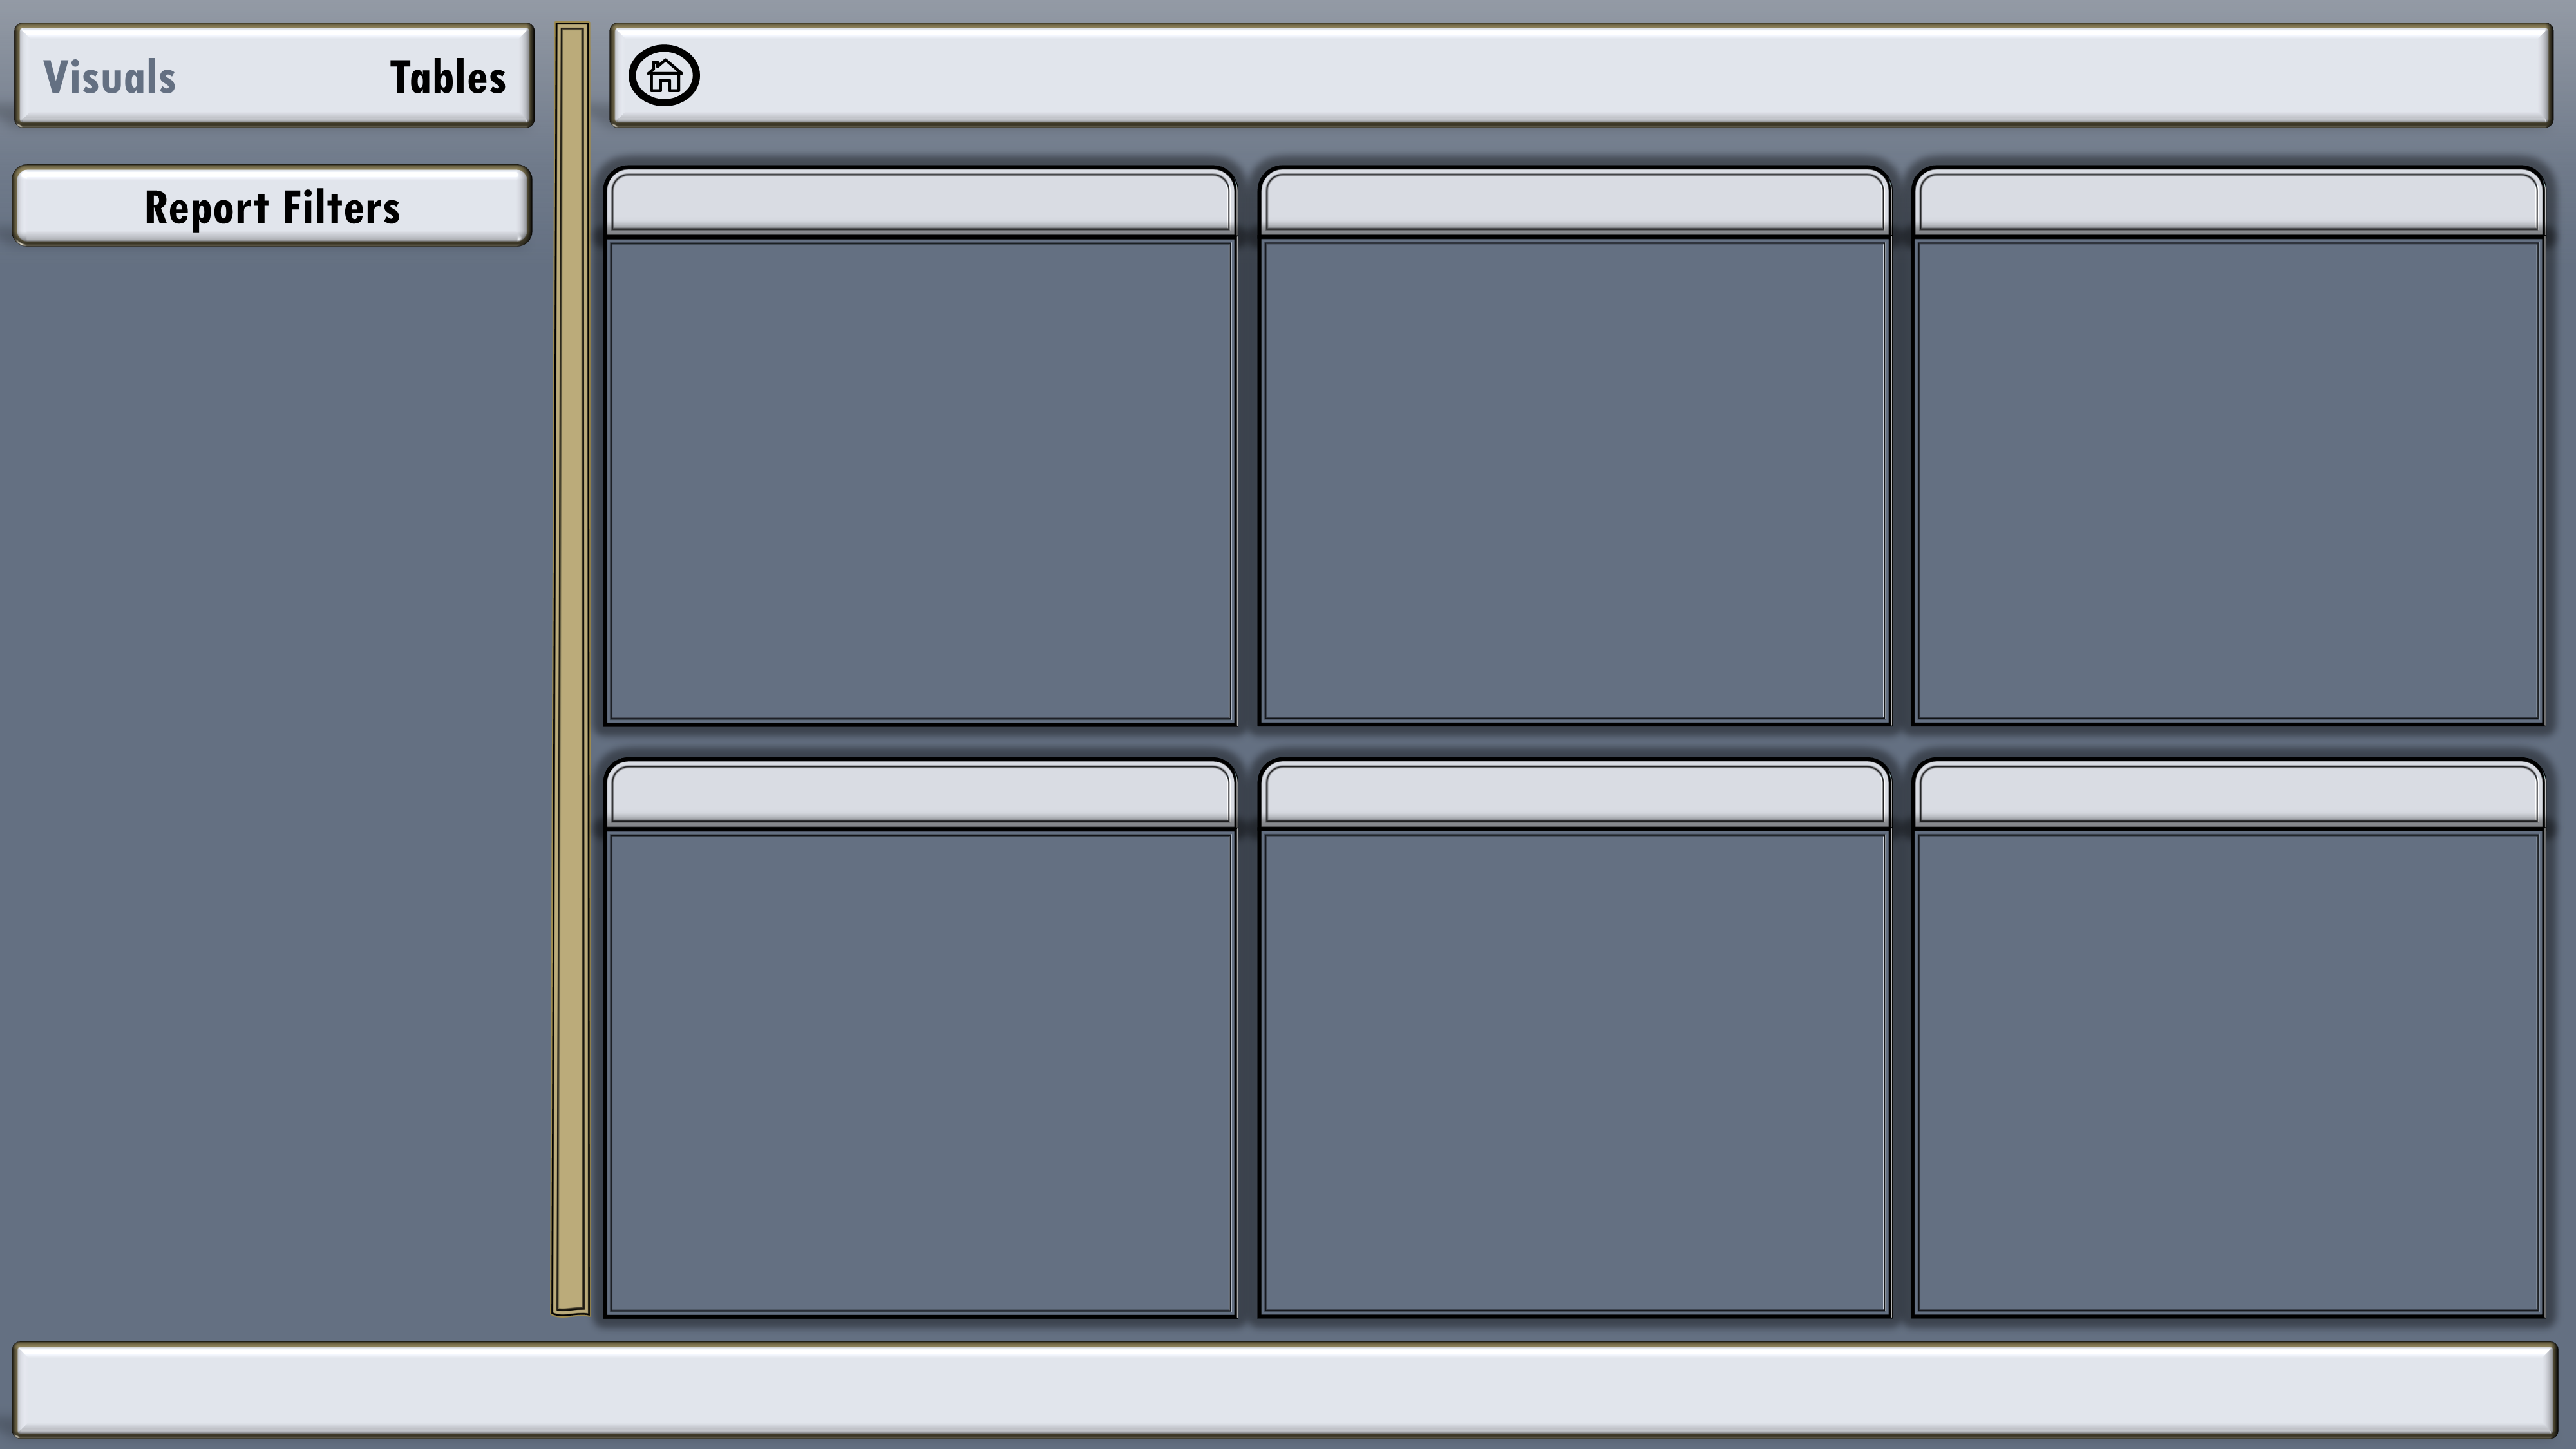

The dashboard page shown, as its layout file describes it:
{"tool":"powerbi","page":{"name":"Page 1","canvas":[1280,720],"ordinal":0},"visuals":[{"type":"lineChart","fields":{"Y":["Facture.CA","Budget Vente.CA - Budget Vente"],"Category":["Temps.Année - Mois.Mois"]},"box":[9.8,0,1270.2,312.1],"z":0},{"type":"donutChart","fields":{"Y":["Facture.CA"],"Category":["Site.Pays - Site.Pays","Site.Pays - Site.Site"]},"box":[902,522,378,197],"z":6},{"type":"gauge","fields":{"Y":["Budget Vente.% CA vs Budget Vente"]},"box":[9.8,321.8,441.3,180.4],"z":1000},{"type":"gauge","fields":{"Y":["Budget Vente.Ecart Marge vs Budget Vente"]},"box":[9.8,512,441.3,207.2],"z":2000},{"type":"map","fields":{"Size":["Facture.CA"],"Category":["Client.Localisation Client.Ville"]},"box":[451,321.8,451,397.4],"z":3000},{"type":"donutChart","fields":{"Y":["Facture.CA"],"Category":["Produit.Famille - SousFamille - Produit.Famille","Produit.Famille - SousFamille - Produit.Sous Famille","Produit.Famille - SousFamille - Produit.Produit"]},"box":[902.1,321.8,377.9,199.9],"z":4000}]}

Visuals, with their boxes on the page's 1280x720 design canvas (x1, y1, x2, y2). These are canvas units, not pixel positions in the 2576x1449 screenshot, which may show the page scaled, cropped or inside an application window:
lineChart - Facture.CA x Budget Vente.CA - Budget Vente: crop(10, 0, 1280, 312)
donutChart - Facture.CA x Site.Pays - Site.Pays: crop(902, 522, 1280, 719)
gauge - Budget Vente.% CA vs Budget Vente: crop(10, 322, 451, 502)
gauge - Budget Vente.Ecart Marge vs Budget Vente: crop(10, 512, 451, 719)
map - Facture.CA x Client.Localisation Client.Ville: crop(451, 322, 902, 719)
donutChart - Facture.CA x Produit.Famille - SousFamille - Produit.Famille: crop(902, 322, 1280, 522)
